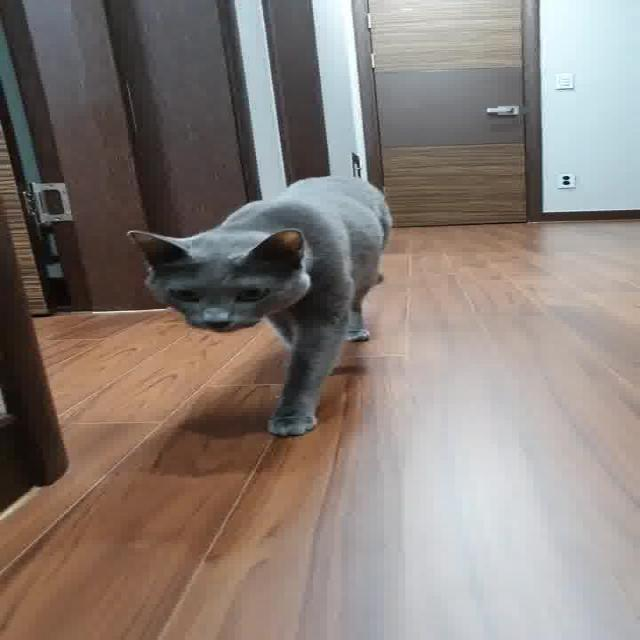cat: (99, 130, 467, 454)
